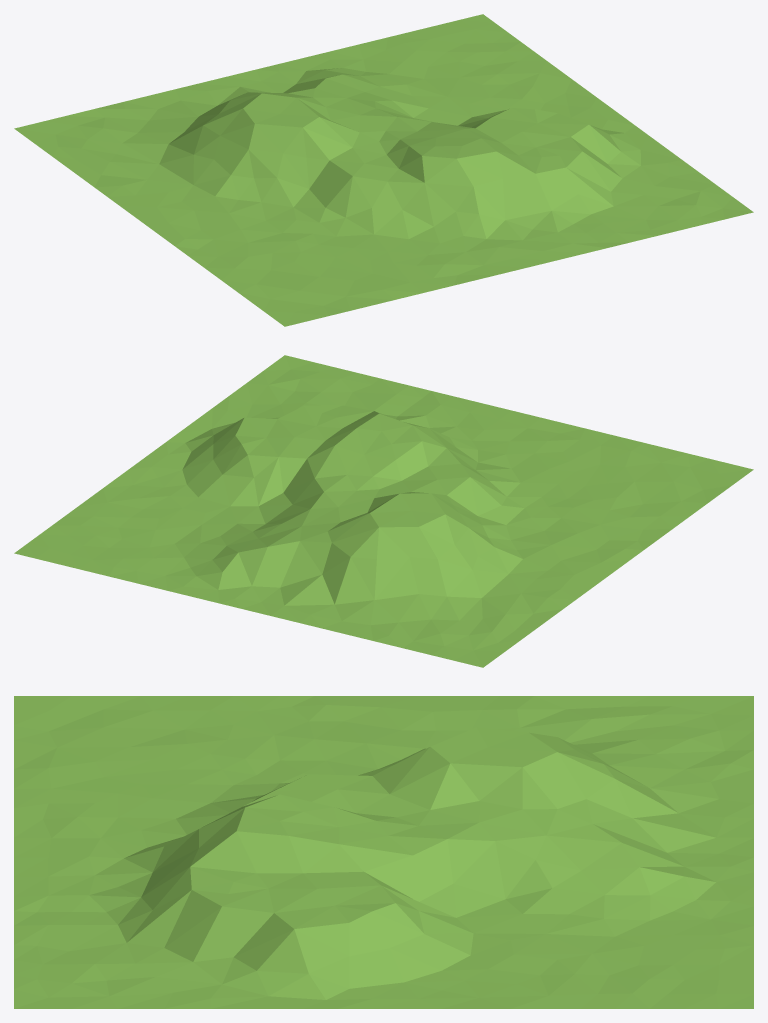
The model's file is MT_Terrain_M_d_05.fbx.
3 renders of one model, top to bottom at view 1: azimuth 30°, elevation 25°; view 2: azimuth 150°, elevation 25°; view 3: azimuth 270°, elevation 25°, orthographic. The views are drawn at different scales.
Parts seen in each view (by area): view 1: MT_Terrain_M_d_05; view 2: MT_Terrain_M_d_05; view 3: MT_Terrain_M_d_05.
Boxes of the visible parts, <box> form: MT_Terrain_M_d_05: <box>14,14,753,326</box>; MT_Terrain_M_d_05: <box>14,355,753,667</box>; MT_Terrain_M_d_05: <box>14,696,753,1008</box>.
Size of the model in its own units: 5000 by 479 by 5000.
